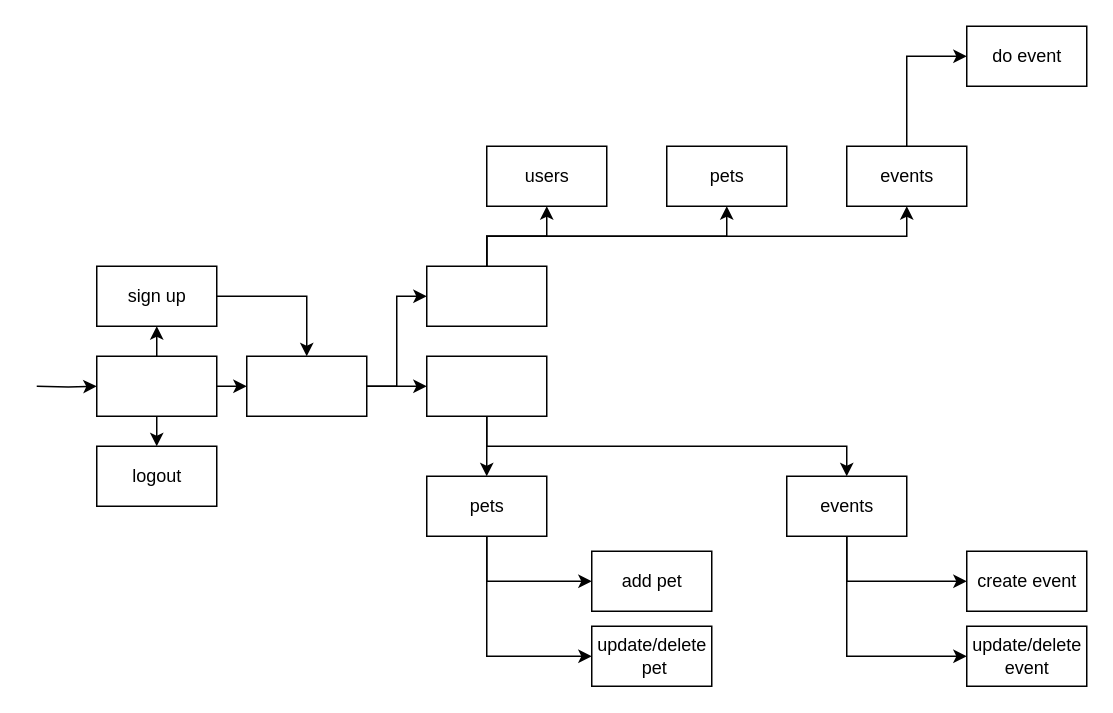
This 1113x713 diagram has some shape labels left out. The centre of each missing label's shape, as x and y in pixels:
"global" goes at (486,295).
"login" goes at (156,385).
"my" goes at (486,385).
